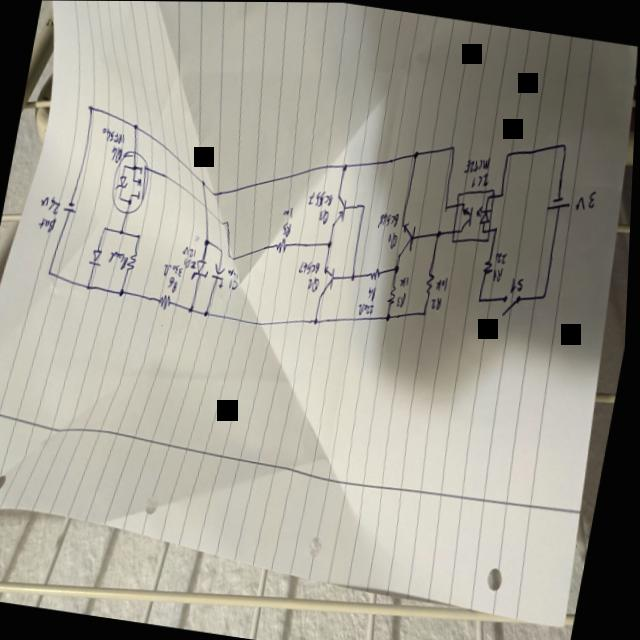capacitor: (213, 262, 230, 290)
crossover: (205, 204, 211, 213)
diode: (193, 258, 214, 284), (91, 249, 107, 269), (117, 174, 132, 193)
junction: (543, 290, 551, 303), (205, 237, 214, 248), (352, 273, 360, 284), (315, 316, 323, 327), (414, 149, 422, 160), (395, 265, 403, 276), (437, 230, 445, 241), (88, 105, 96, 116), (388, 313, 395, 324), (343, 163, 350, 174), (191, 305, 198, 316), (206, 309, 213, 320), (451, 143, 458, 154), (506, 150, 513, 161), (563, 142, 570, 153), (225, 220, 233, 229), (121, 289, 128, 299), (88, 284, 95, 294), (104, 225, 111, 235), (202, 179, 209, 189), (121, 229, 128, 238), (329, 239, 335, 249), (363, 203, 369, 212), (134, 124, 140, 133), (50, 270, 56, 278), (480, 296, 486, 304), (228, 253, 234, 261), (139, 234, 144, 242), (425, 310, 430, 318), (446, 204, 451, 212), (501, 192, 506, 200), (129, 199, 135, 205), (496, 226, 501, 233), (119, 195, 124, 202), (124, 164, 129, 170), (222, 248, 227, 254), (134, 166, 139, 172)
resistor: (426, 269, 439, 298), (389, 284, 401, 307), (485, 256, 498, 277), (276, 237, 292, 254), (161, 293, 175, 312), (128, 254, 140, 275), (371, 267, 385, 283)
source: (549, 194, 574, 215), (64, 200, 81, 217)
switch: (502, 292, 524, 319)
text: (576, 187, 600, 216), (465, 153, 493, 177), (41, 193, 65, 218), (102, 126, 129, 147), (310, 190, 336, 208), (110, 251, 132, 272), (380, 210, 402, 231), (301, 259, 324, 278), (40, 214, 60, 234), (473, 170, 492, 191), (166, 263, 187, 281), (511, 277, 527, 297), (359, 301, 378, 317), (397, 290, 411, 310), (111, 145, 125, 165), (388, 231, 401, 252), (184, 245, 200, 261), (437, 277, 451, 295), (309, 276, 323, 294), (283, 221, 296, 240), (169, 277, 182, 296), (496, 251, 510, 268), (433, 295, 446, 313), (321, 207, 332, 226), (495, 268, 507, 284), (186, 258, 200, 270), (284, 207, 296, 220), (229, 267, 242, 279), (402, 274, 413, 288), (370, 287, 380, 302), (231, 281, 242, 294)
transistor: (127, 163, 152, 208), (398, 221, 420, 263), (321, 264, 340, 299), (333, 195, 351, 230)
